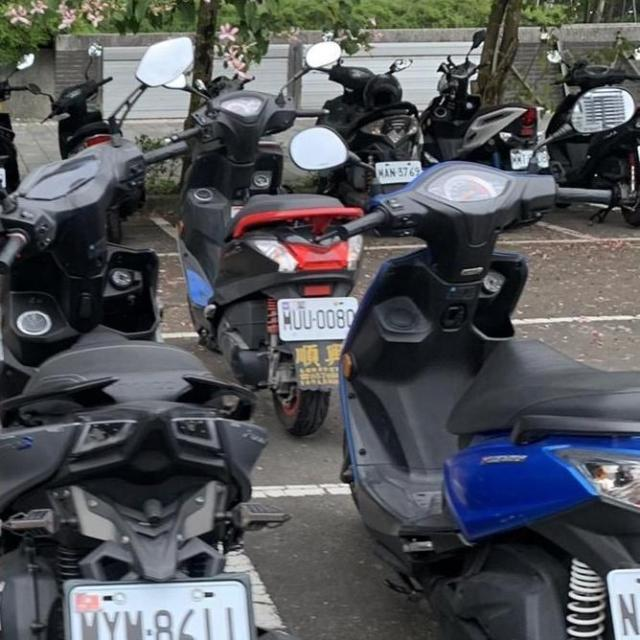W: (62, 578, 257, 640), (271, 286, 362, 344), (601, 564, 640, 638), (370, 157, 427, 186)
